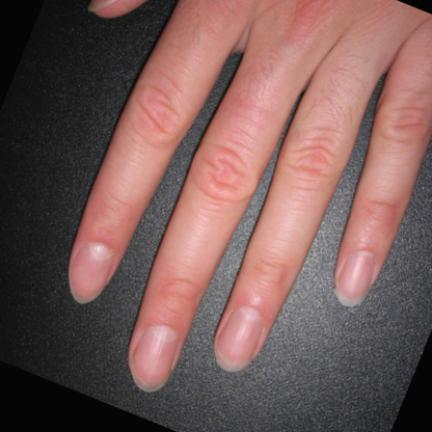Nail: (216, 307, 261, 370), (133, 326, 178, 389), (73, 243, 117, 303), (338, 251, 376, 307)
